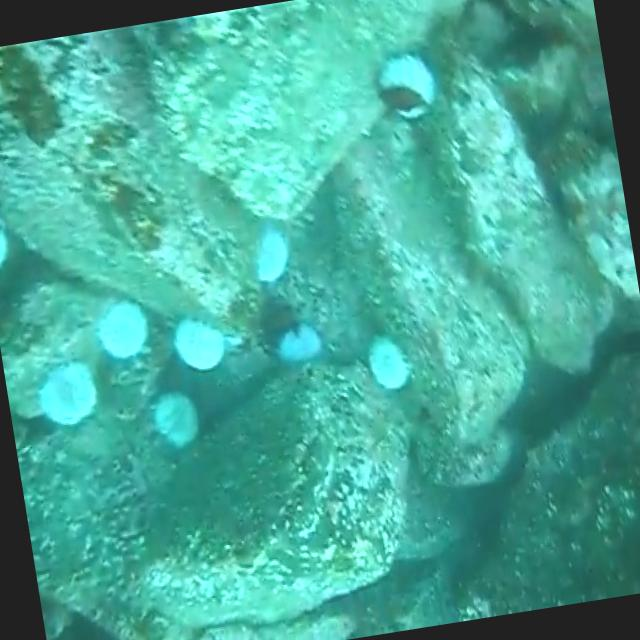Deniz Kestanesi: (22, 354, 108, 441), (376, 35, 441, 125), (242, 207, 304, 296), (96, 292, 158, 371), (360, 319, 421, 398), (164, 310, 232, 380), (146, 386, 204, 461), (272, 311, 330, 378)
